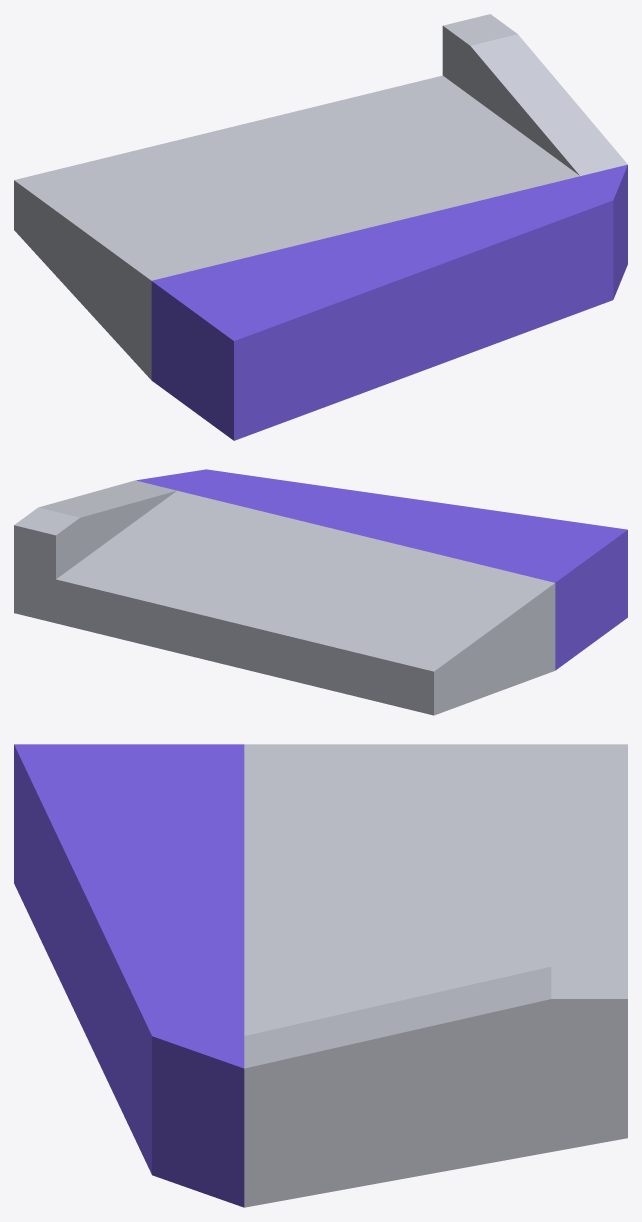
Rendered from Wing_1.fbx.
3 views of the same model, one above another, from view 1: azimuth 30°, elevation 25°; view 2: azimuth 150°, elevation 25°; view 3: azimuth 270°, elevation 25° (orthographic). The views are drawn at different scales.
Parts seen in each view (by area): view 1: wing_slantEdgeWinglet; view 2: wing_slantEdgeWinglet; view 3: wing_slantEdgeWinglet.
Boxes of the visible parts, left/top/right/bottom form: wing_slantEdgeWinglet: left=14, top=14, right=627, bottom=440; wing_slantEdgeWinglet: left=14, top=469, right=627, bottom=715; wing_slantEdgeWinglet: left=14, top=744, right=627, bottom=1207.
Bounding box in the file's own units: 10 × 3 × 8.
